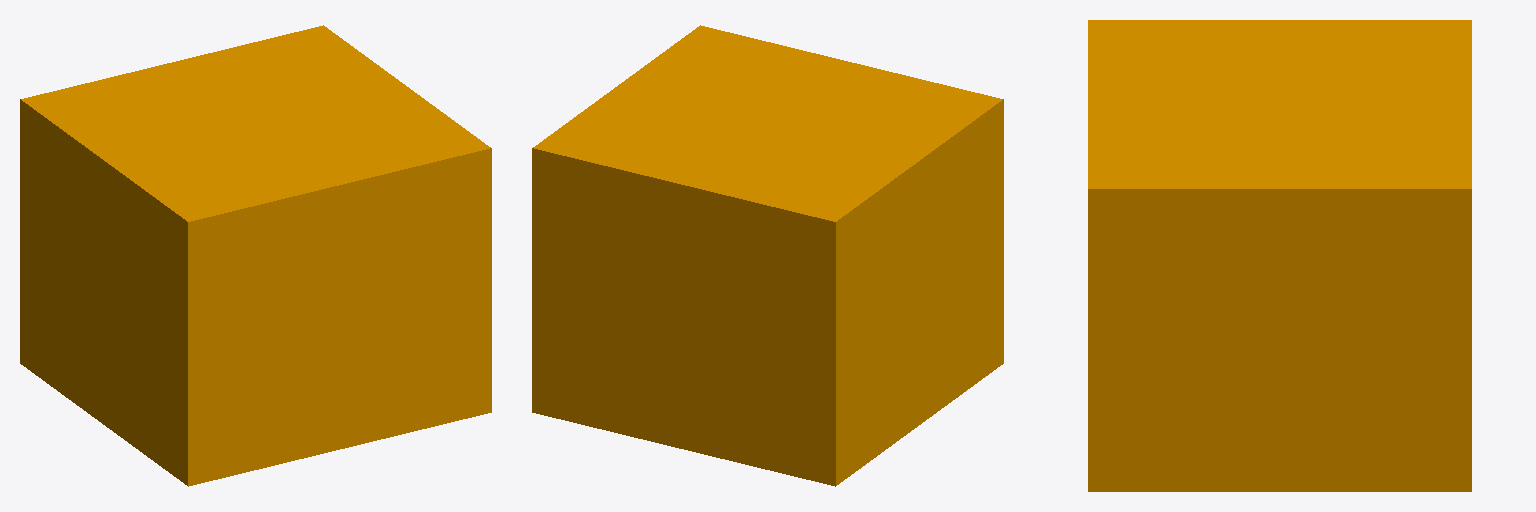
robot.urdf — object:
<robot name="object">
  <link name="object">
    <visual>
      <origin xyz="0 0 0" />
      <geometry>
        <box size="0.09600000000000003 0.09200000000000003 0.08" />
      </geometry>
    </visual>

    <collision>
      <origin xyz="0 0 0" />
      <geometry>
        <box size="0.09600000000000003 0.09200000000000003 0.08" />
      </geometry>
    </collision>

    <inertial>
      <mass value="0.05" />
      <inertia ixx="0.0001" ixy="0.0" ixz="0.0" iyy="0.0001" iyz="0.0" izz="0.0001" />
    </inertial>
  </link>
</robot>

--- Render facts (derived) ---
The picture shows the robot from 3 angles, left to right: view 1: azimuth 30°, elevation 25°; view 2: azimuth 150°, elevation 25°; view 3: azimuth 270°, elevation 25°; orthographic projection.
Robot: object — 1 links, 0 joints (none); root link object; default pose: all joints at 0.
Links seen in each view (by area): view 1: object; view 2: object; view 3: object.
Link boxes in pixels (<box>): object: <box>20,25,491,486</box>; object: <box>532,25,1003,486</box>; object: <box>1088,20,1471,491</box>.
Size in the robot's own frame: 0.096 by 0.092 by 0.08 metres.
Geometry: primitives only (box / cylinder / sphere), no mesh files.